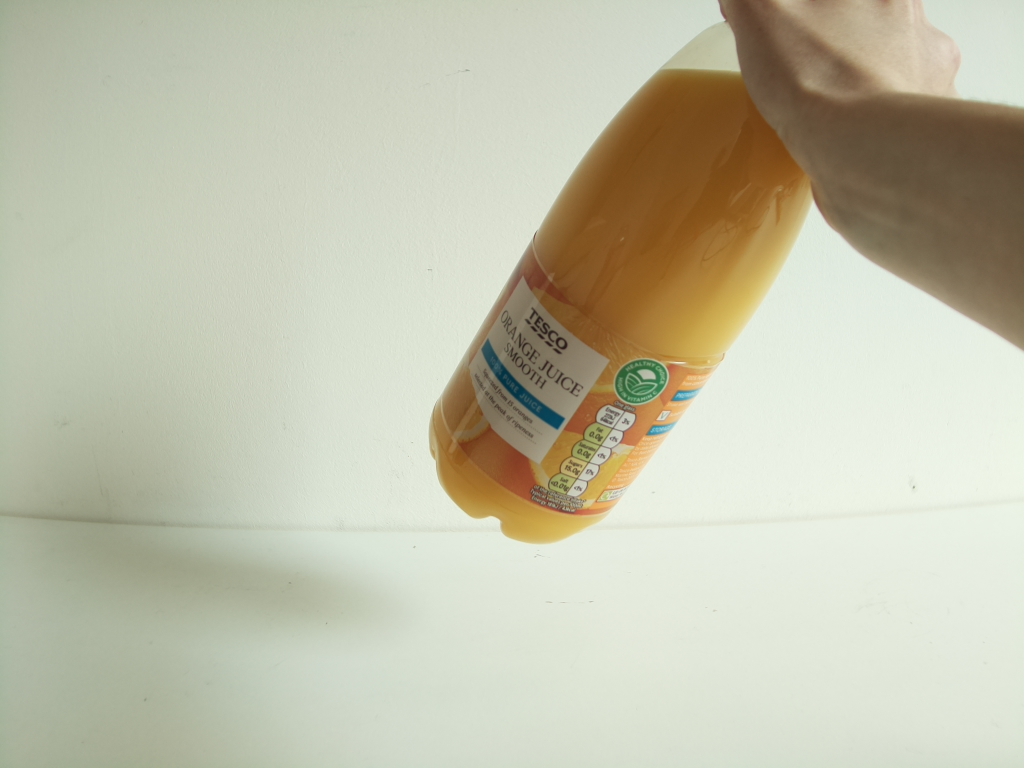juice: (426, 14, 822, 549)
